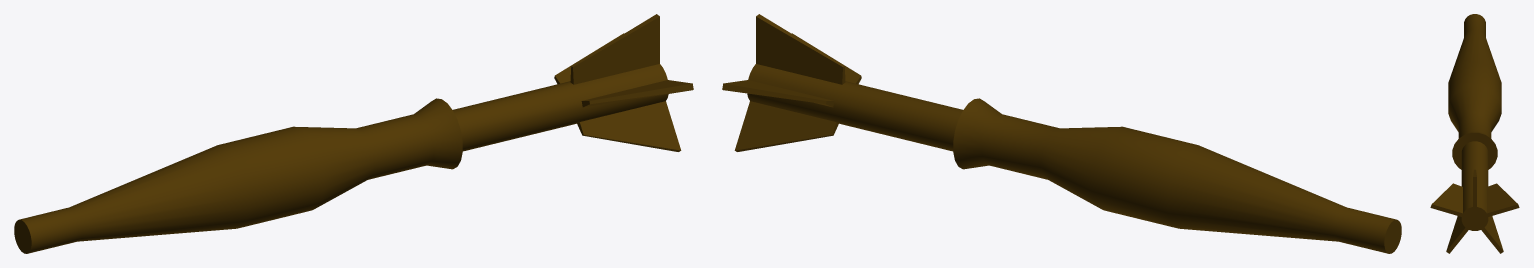
Rendered from rpg.fbx.
3 views of the same model, side by side, from view 1: azimuth 30°, elevation 25°; view 2: azimuth 150°, elevation 25°; view 3: azimuth 270°, elevation 25° (orthographic). The views are drawn at different scales.
Parts seen in each view (by area): view 1: pCylinder1; view 2: pCylinder1; view 3: pCylinder1.
Part boxes in pixels (<box>): pCylinder1: <box>14,14,693,253</box>; pCylinder1: <box>722,14,1401,253</box>; pCylinder1: <box>1430,14,1519,253</box>.
Bounding box in the file's own units: 4.04 × 0.7424 × 0.7806.
